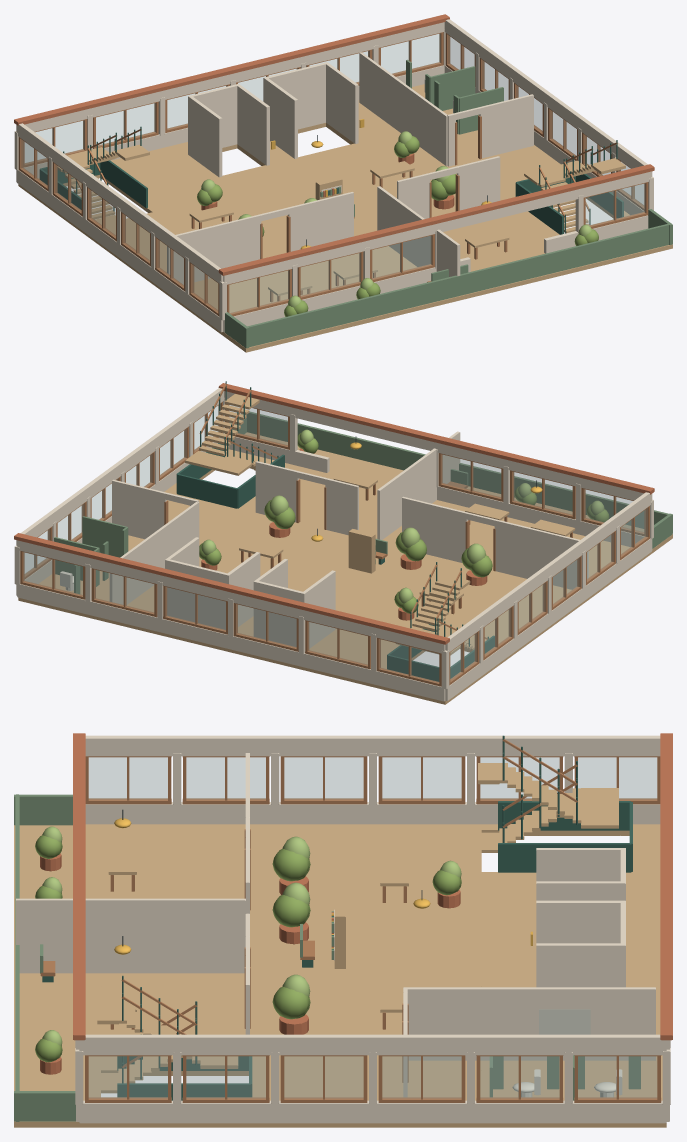
File: campus-6F.glb
The picture shows the model from 3 angles, top to bottom: view 1: azimuth 30°, elevation 25°; view 2: azimuth 150°, elevation 25°; view 3: azimuth 270°, elevation 25°; orthographic projection. The views are drawn at different scales.
Visible parts, largest first — view 1: Inside_oak_6F, Inside_cream_6F, Shell_cream_6F, Shell_glass_6F, Shell_sage_6F, Shell_wood_6F, Shell_clay_6F, Inside_deep_6F, Inside_sage_6F, Inside_wood_6F, Inside_leaf_6F, Shell_leaf_6F; view 2: Inside_oak_6F, Shell_cream_6F, Inside_cream_6F, Shell_glass_6F, Shell_wood_6F, Shell_clay_6F, Shell_sage_6F, Inside_deep_6F, Inside_sage_6F, Inside_leaf_6F, Inside_wood_6F, Inside_leaf2_6F (+2 smaller); view 3: Inside_oak_6F, Shell_cream_6F, Inside_cream_6F, Shell_glass_6F, Shell_wood_6F, Shell_clay_6F, Inside_deep_6F, Shell_sage_6F, Inside_leaf_6F, Inside_wood_6F, Inside_sage_6F, Inside_clay_6F (+5 smaller).
Boxes of the visible parts, x1,y1,x2,y2 form: Inside_oak_6F: [18, 84, 672, 352]; Inside_cream_6F: [167, 52, 533, 284]; Shell_cream_6F: [14, 19, 653, 332]; Shell_glass_6F: [21, 34, 644, 313]; Shell_sage_6F: [224, 209, 672, 348]; Shell_wood_6F: [18, 32, 648, 316]; Shell_clay_6F: [14, 14, 654, 275]; Inside_deep_6F: [39, 126, 623, 234]; Inside_sage_6F: [320, 59, 503, 216]; Inside_wood_6F: [75, 115, 617, 302]; Inside_leaf_6F: [197, 136, 456, 236]; Shell_leaf_6F: [284, 229, 598, 316]; Inside_oak_6F: [18, 394, 672, 704]; Shell_cream_6F: [14, 388, 653, 701]; Inside_cream_6F: [109, 431, 588, 648]; Shell_glass_6F: [23, 405, 647, 682]; Shell_wood_6F: [20, 401, 649, 686]; Shell_clay_6F: [14, 383, 654, 644]; Shell_sage_6F: [229, 411, 672, 548]; Inside_deep_6F: [176, 381, 494, 681]; Inside_sage_6F: [54, 516, 387, 593]; Inside_leaf_6F: [199, 500, 492, 613]; Inside_wood_6F: [164, 383, 572, 639]; Inside_leaf2_6F: [201, 495, 485, 603]; Inside_oak_6F: [14, 763, 666, 1127]; Shell_cream_6F: [75, 735, 670, 1123]; Inside_cream_6F: [16, 753, 655, 1097]; Shell_glass_6F: [89, 757, 656, 1098]; Shell_wood_6F: [40, 756, 661, 1102]; Shell_clay_6F: [40, 733, 672, 1074]; Inside_deep_6F: [117, 735, 632, 1100]; Shell_sage_6F: [14, 794, 75, 1121]; Inside_leaf_6F: [272, 849, 461, 1019]; Inside_wood_6F: [110, 739, 577, 1082]; Inside_sage_6F: [300, 911, 640, 1100]; Inside_clay_6F: [279, 876, 460, 1034].
Size of the model in its own units: 26.3 by 4.94 by 24.23.
